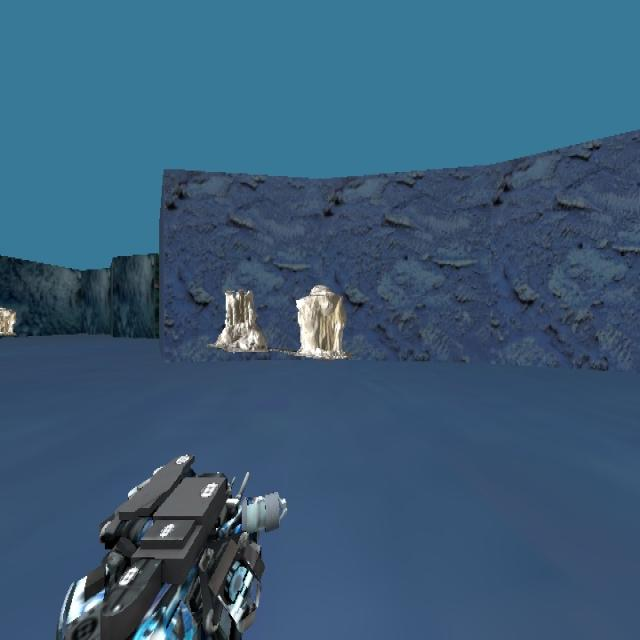Ice: (210, 288, 268, 353), (296, 282, 348, 354)
